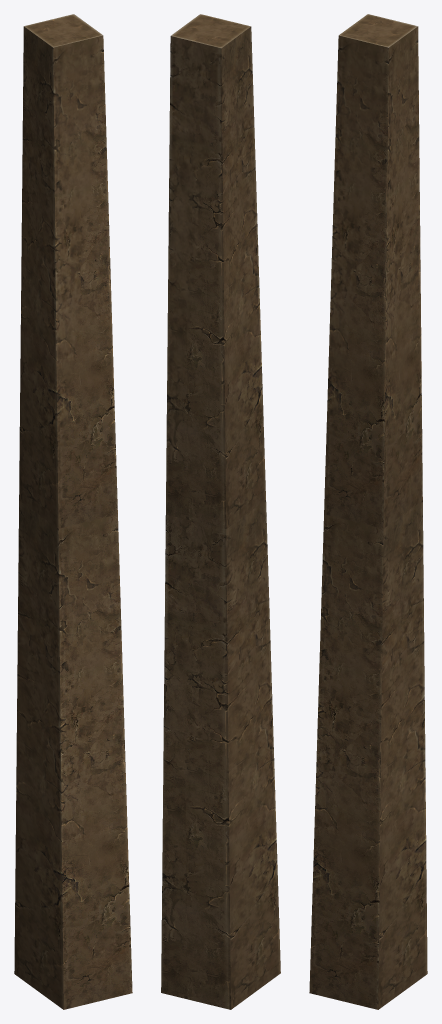
The model's file is A_zhuzi001.fbx.
3 views of the same model, side by side, from view 1: azimuth 30°, elevation 25°; view 2: azimuth 150°, elevation 25°; view 3: azimuth 330°, elevation 25° (orthographic).
Parts seen in each view (by area): view 1: A_zhuzi001; view 2: A_zhuzi001; view 3: A_zhuzi001.
Boxes of the visible parts, x1,y1,x2,y2 form: A_zhuzi001: [14, 14, 132, 1009]; A_zhuzi001: [161, 14, 280, 1009]; A_zhuzi001: [309, 14, 427, 1009].
Size of the model in its own units: 137 by 1800 by 170.
